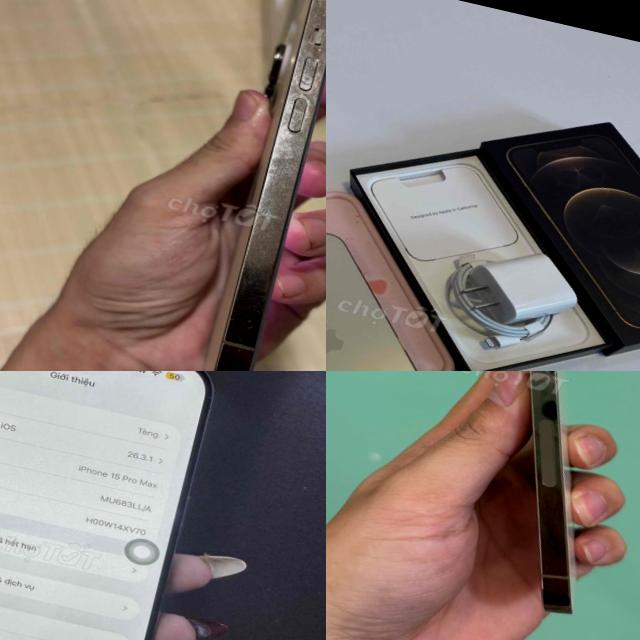gen_12_13: (326, 208, 487, 371)
gen_14: (167, 0, 326, 371), (418, 371, 640, 629)
gen_15: (0, 371, 228, 640)
scratch: (277, 0, 326, 143), (256, 152, 299, 232), (228, 311, 273, 367)
